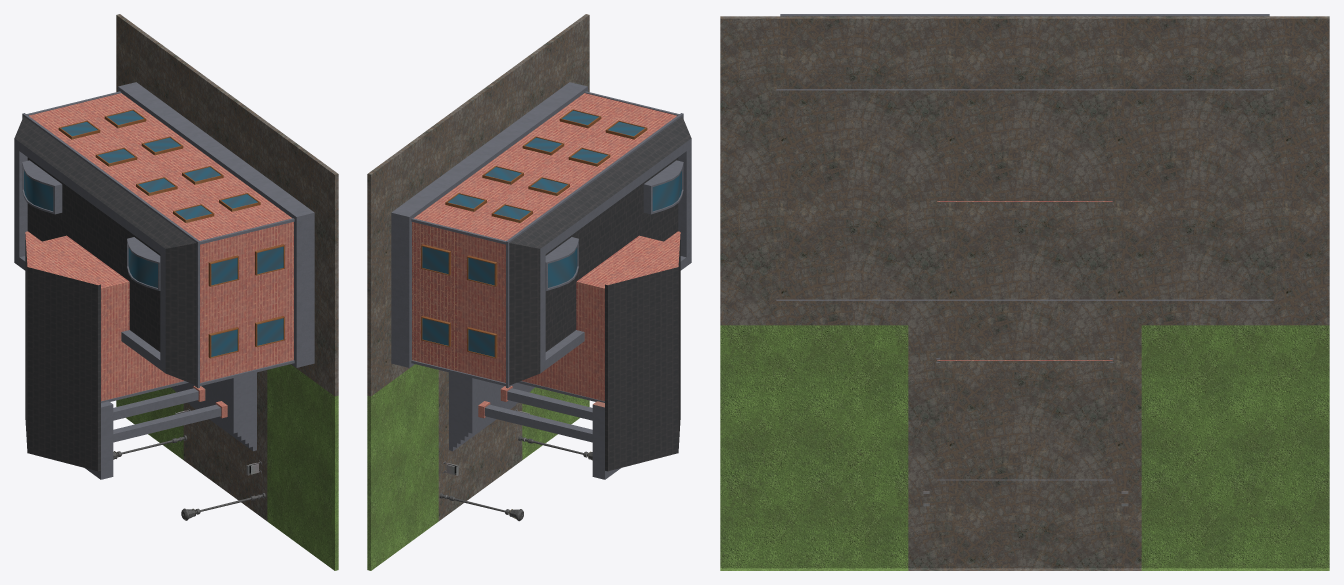
The model's file is libary01.fbx.
3 views of the same model, side by side, from view 1: azimuth 30°, elevation 25°; view 2: azimuth 150°, elevation 25°; view 3: azimuth 270°, elevation 25° (orthographic). The views are drawn at different scales.
Parts seen in each view (by area): view 1: fun_library01; view 2: fun_library01; view 3: fun_library01.
Boxes of the visible parts, x1,y1,x2,y2 form: fun_library01: [14, 14, 338, 570]; fun_library01: [367, 14, 691, 570]; fun_library01: [720, 14, 1329, 570].
Size of the model in its own units: 15 by 15 by 8.
Materials: 8 (8 with a texture image).
